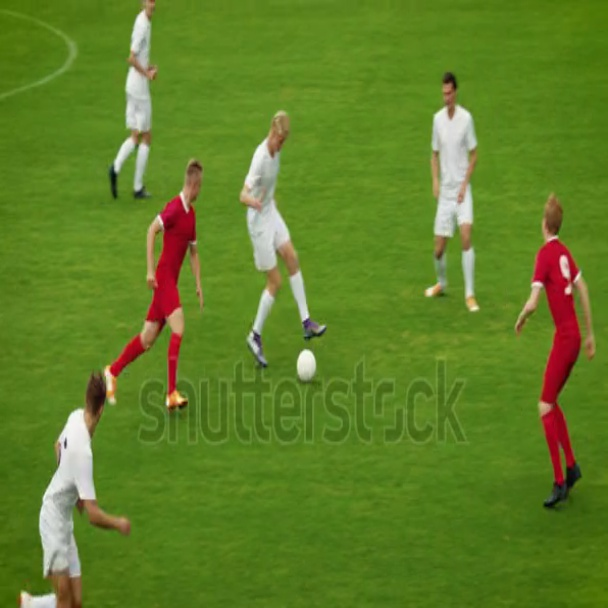ball: (291, 344, 321, 389)
